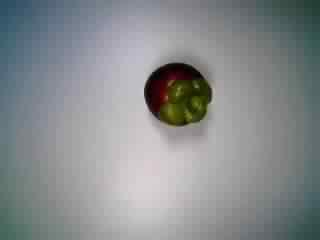mangosteen: (139, 56, 216, 130)
